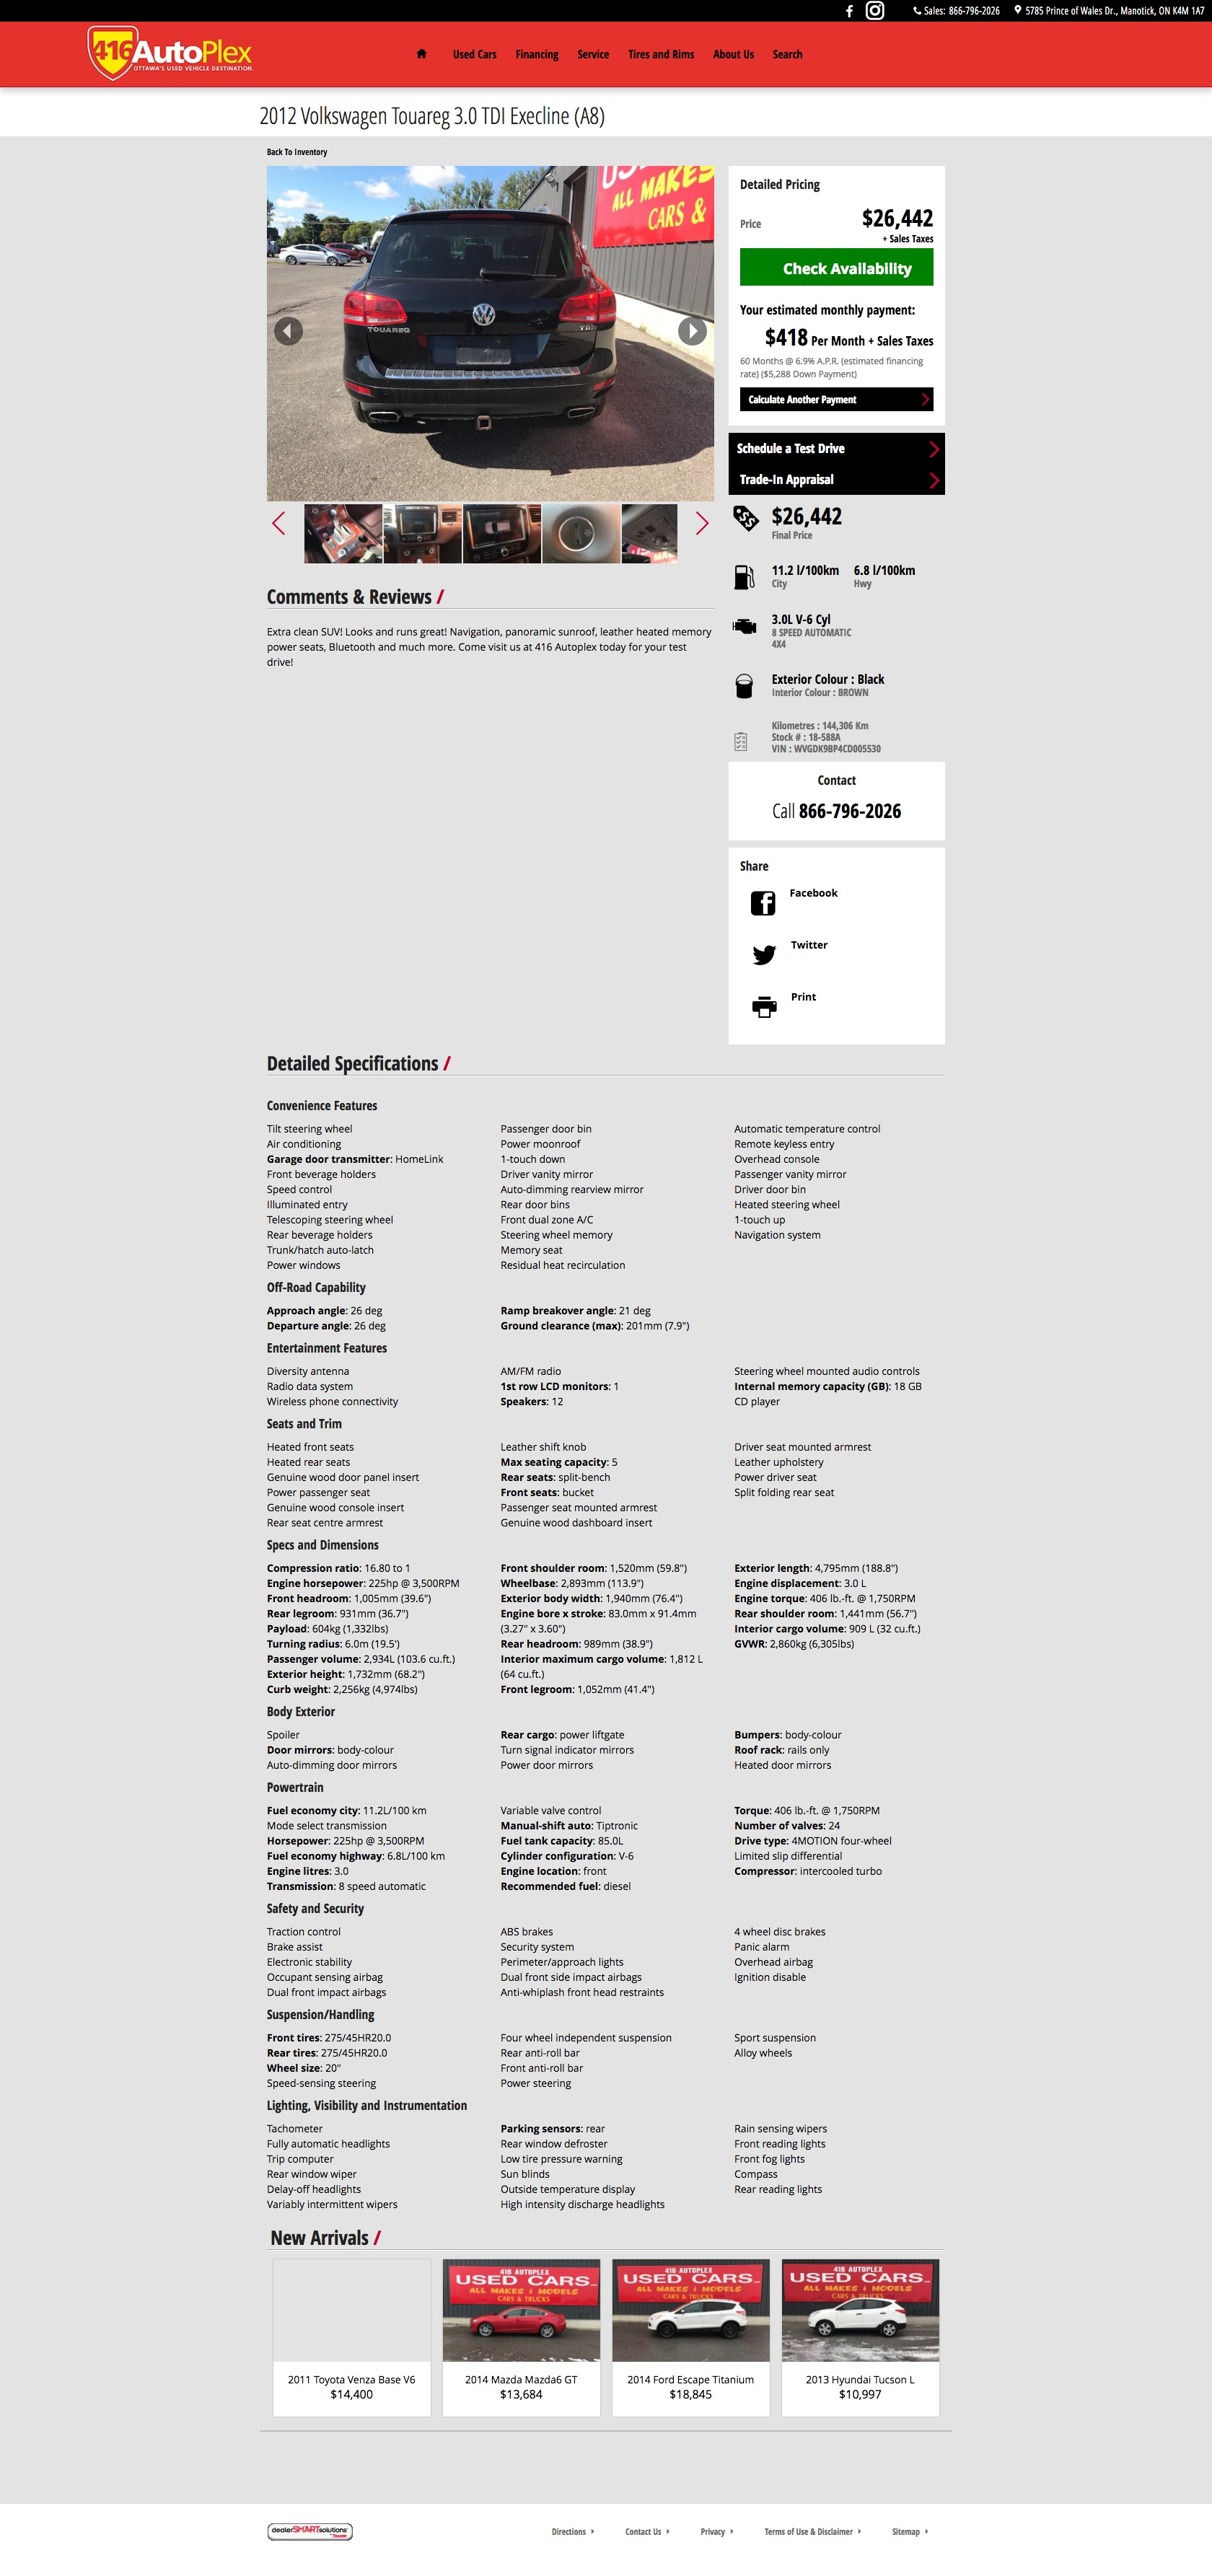car: (695, 511, 711, 536)
